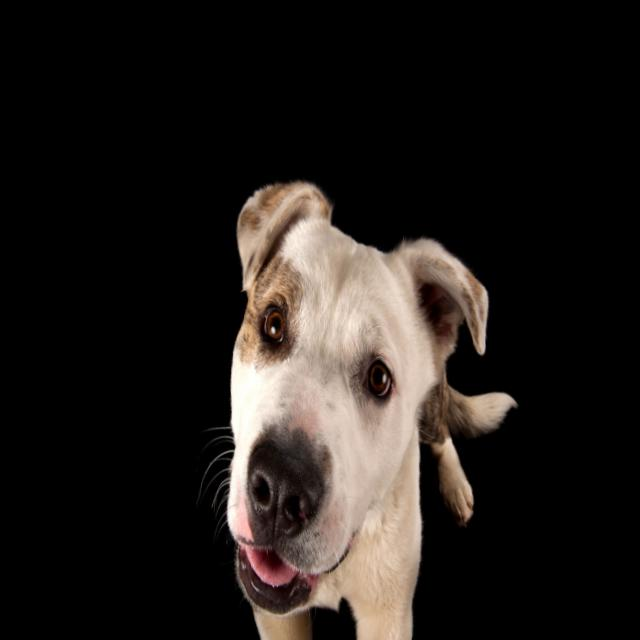Dog: (180, 117, 493, 640)
